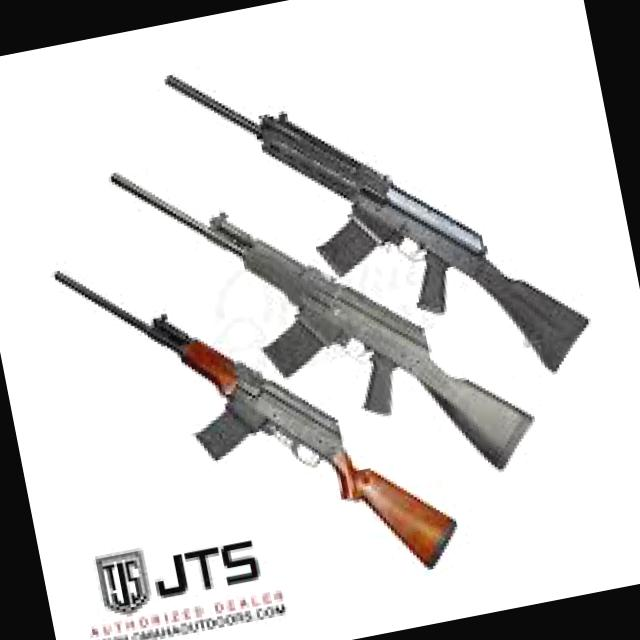long weapon: (54, 152, 580, 496), (123, 56, 624, 379), (10, 260, 481, 585)
